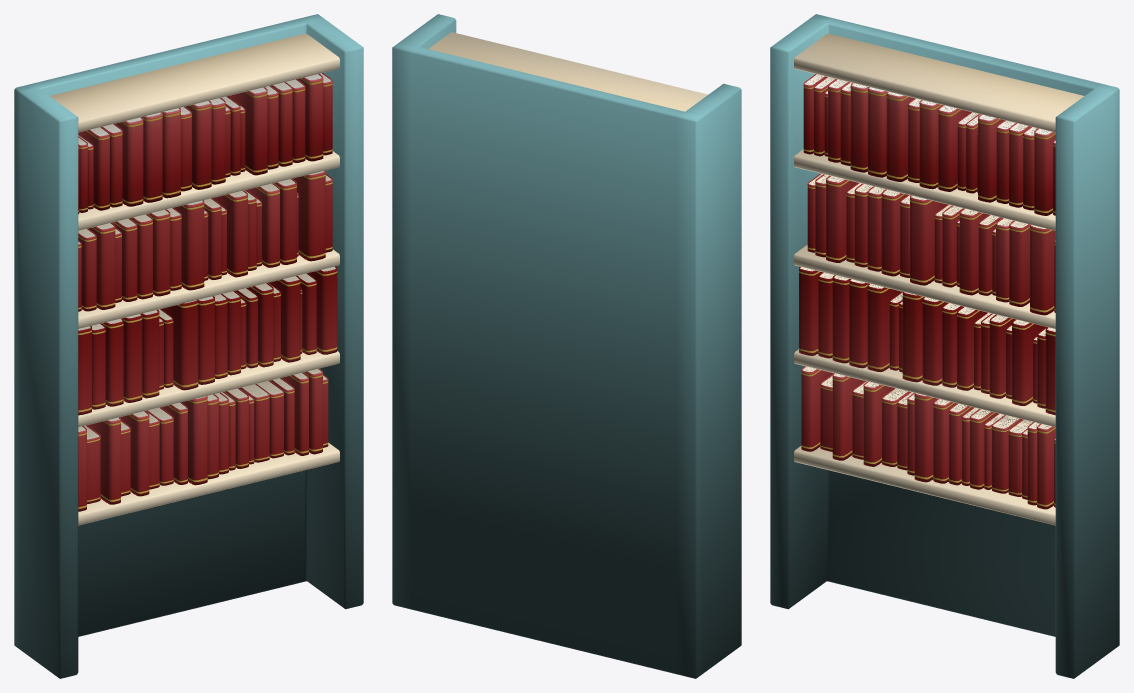
Rendered from cupboard.gltf.
The picture shows the model from 3 angles, left to right: view 1: azimuth 30°, elevation 25°; view 2: azimuth 150°, elevation 25°; view 3: azimuth 330°, elevation 25°; orthographic projection.
Parts seen in each view (by area): view 1: cupboard, bookBundle; view 2: cupboard; view 3: cupboard, bookBundle.
Part boxes in pixels (bbox=[...]): cupboard: bbox=[14, 14, 363, 678]; bookBundle: bbox=[78, 73, 337, 511]; cupboard: bbox=[392, 14, 741, 678]; cupboard: bbox=[770, 14, 1119, 678]; bookBundle: bbox=[799, 74, 1055, 509].
Bounding box in the file's own units: 1.4 × 2.45 × 0.3652.
Materials: 1 (1 with a texture image).
